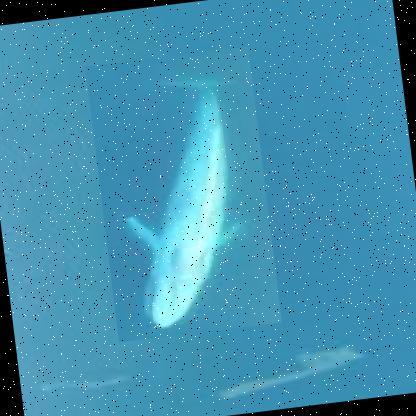blue_whale: (84, 45, 282, 342)
